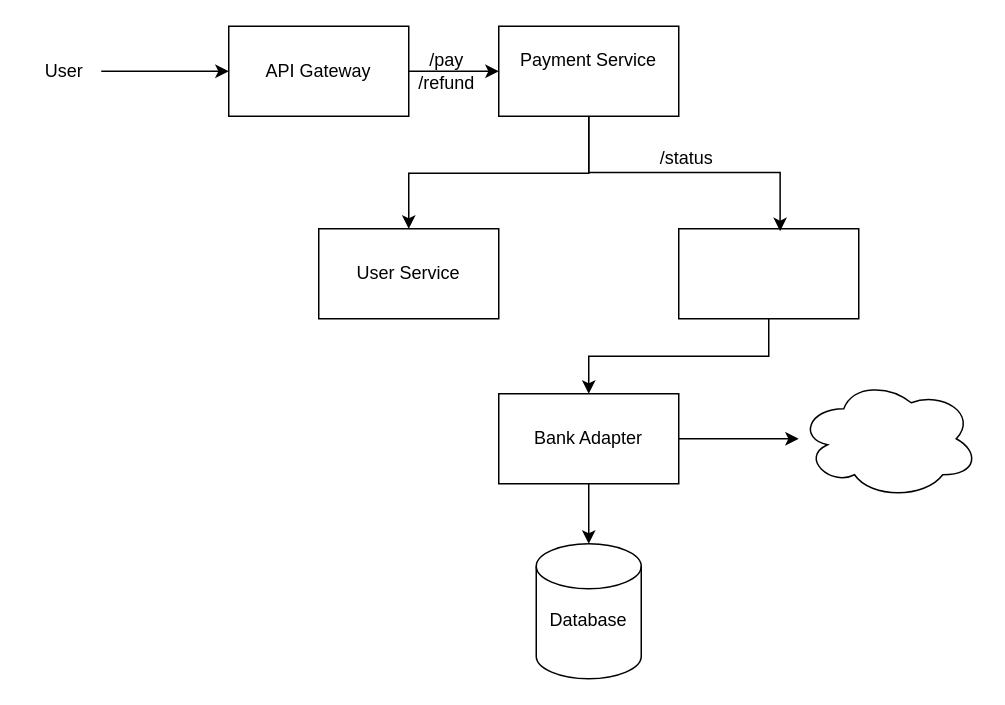
This 1005x705 diagram has some shape labels left out. The shapes that lost their labels are listed below. From the top down, each one's centre as x and y in pixels, then its label:
At (768,273): "Transaction Service".
At (888,438): "External Bank API".
